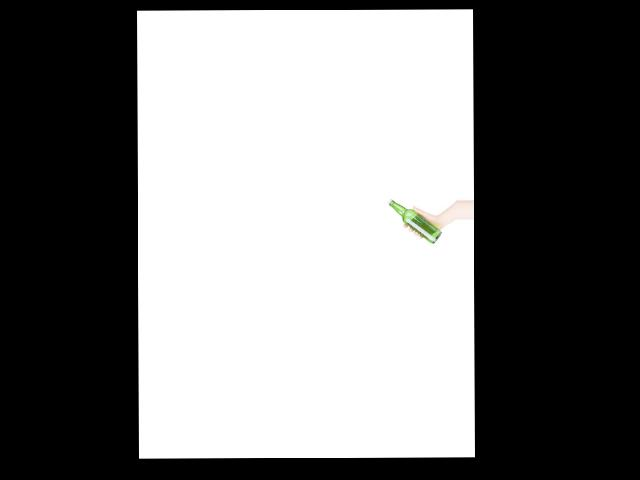beer: (389, 198, 443, 243)
